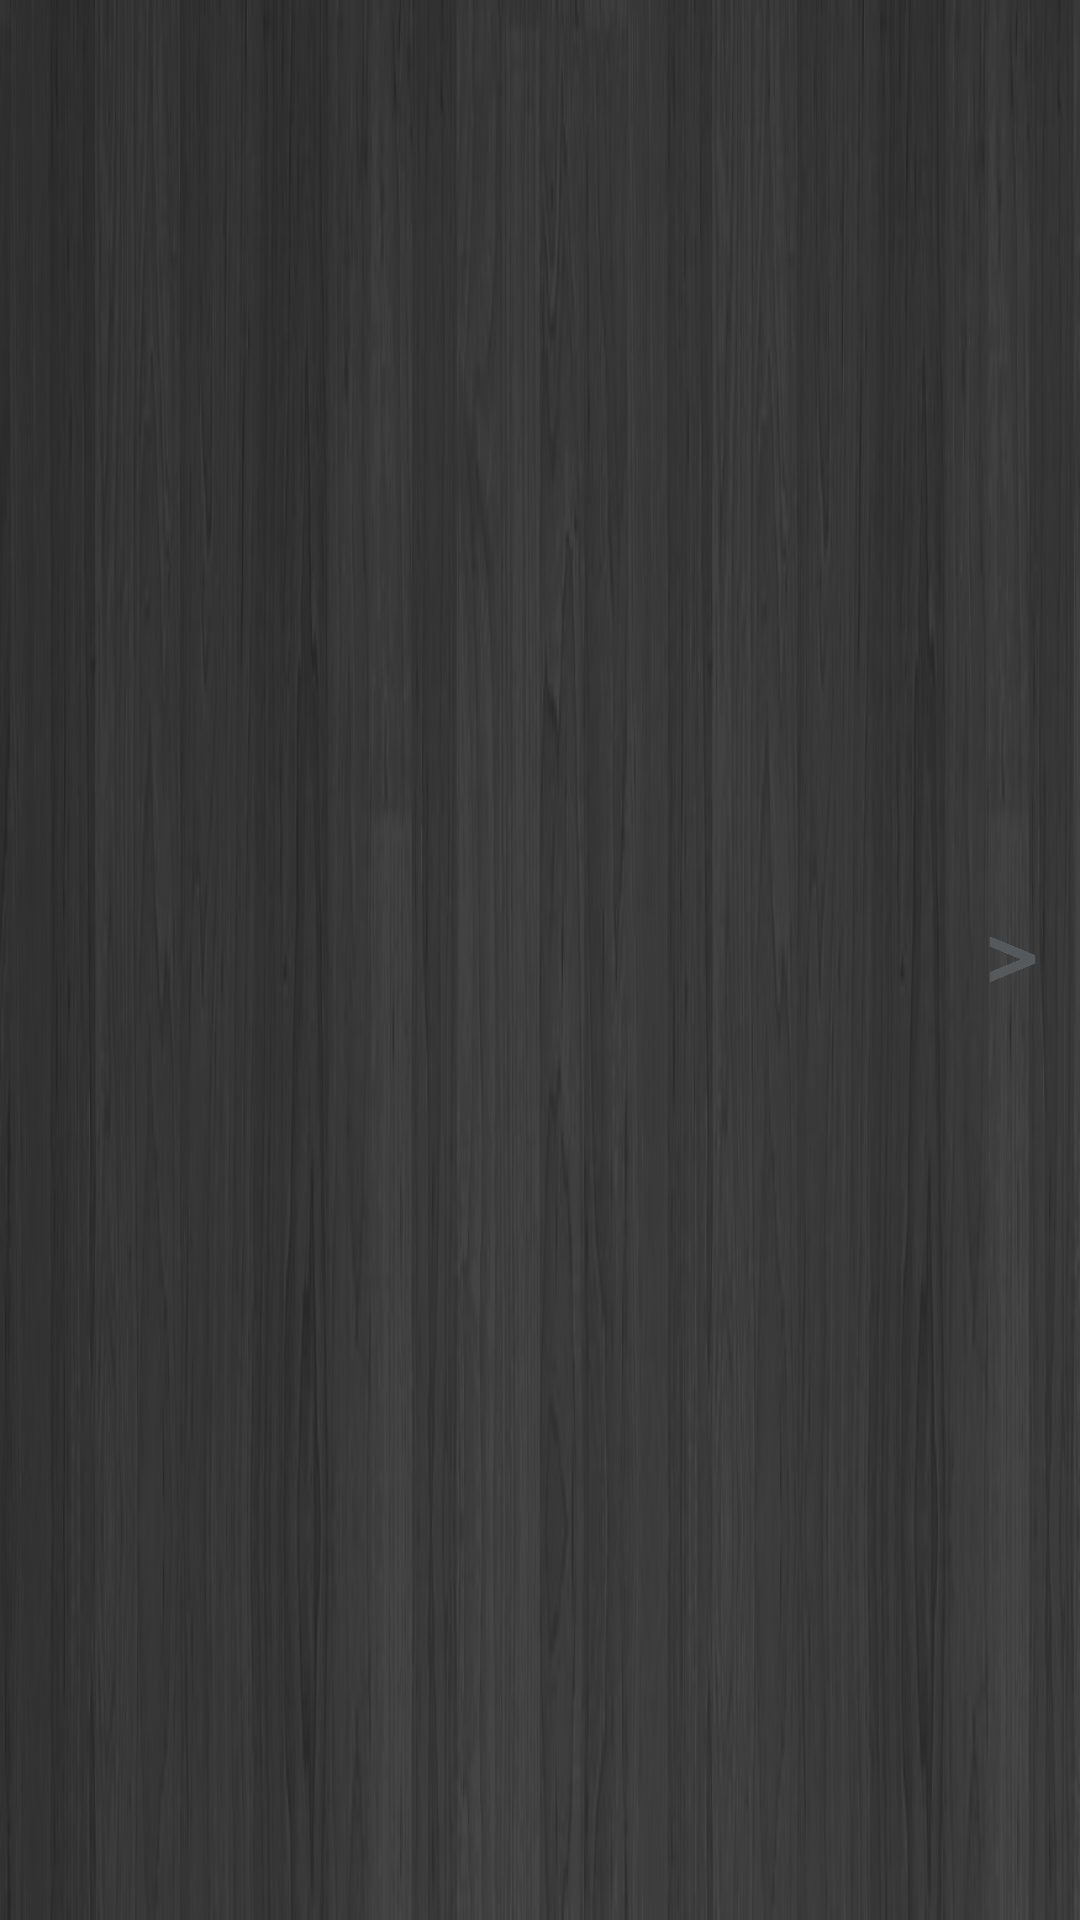

Where to tap for icons on this 1080×1920 app screen, as [x,y]:
arrow: [1012,959]
